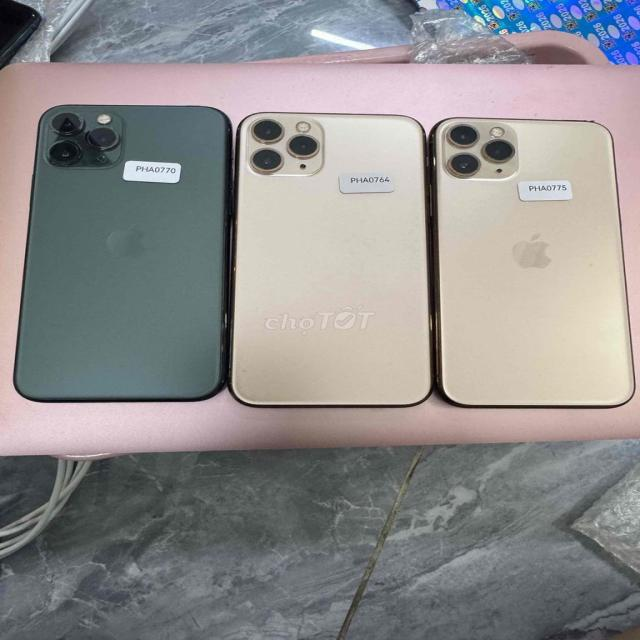gen_11: (8, 90, 229, 408), (229, 105, 433, 415), (438, 105, 634, 418)
